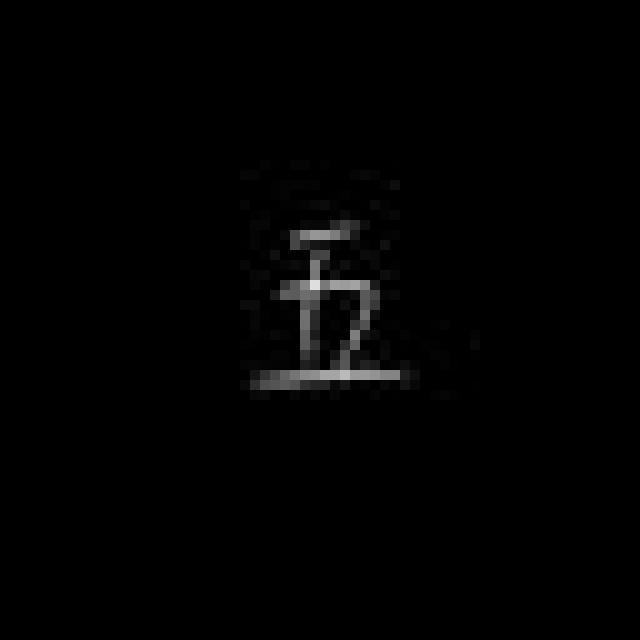5 -five-: (262, 204, 403, 407)
